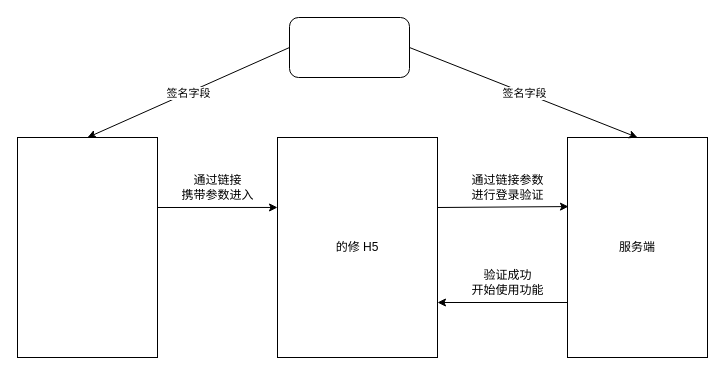
Image size: 725x375. Some labels were removed from this diagram. Here are the shapes that lost their labels. From the top down, the centre of each, then its label:
At point (349, 47): "flag:xxxxxx key:xxxxxxx".
At point (87, 247): "第三方应用".
